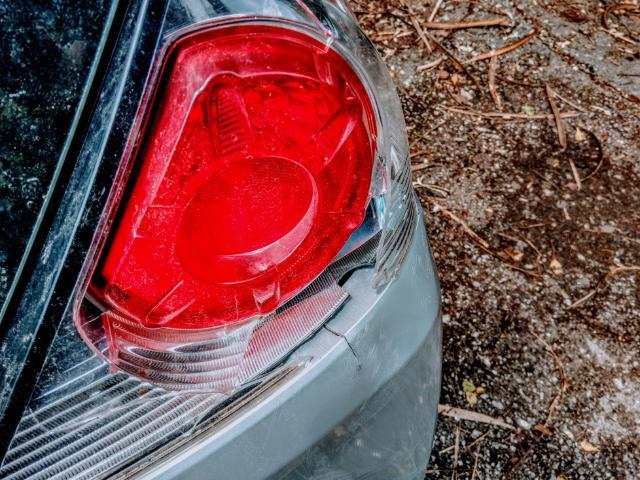Bumper: (316, 317, 396, 403)
